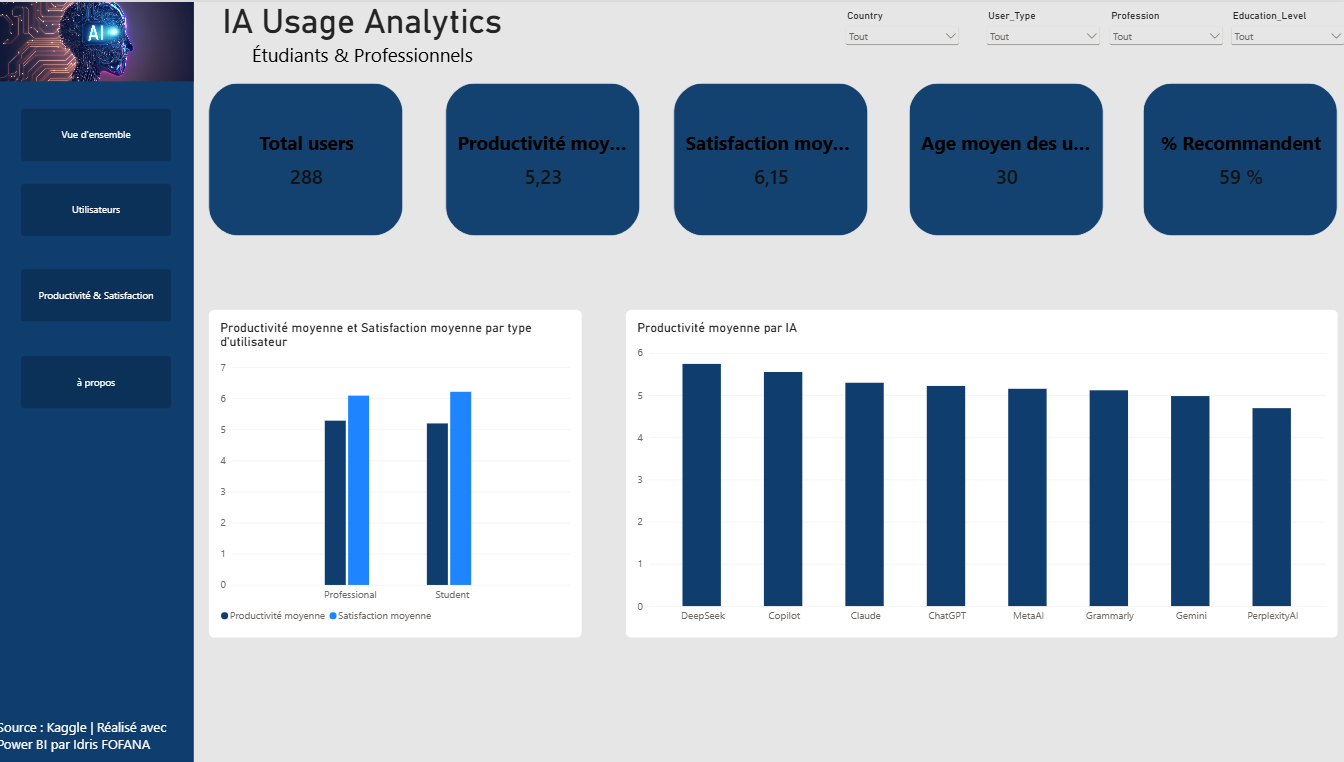

This screenshot's page, from the dashboard's own definition file:
{"tool":"powerbi","page":{"name":"Productivité & Satisfaction","canvas":[1920,1080],"ordinal":2},"visuals":[{"type":"shape","box":[0,0,279.1,1080],"z":0},{"type":"actionButton","title":"Utilisateurs","box":[34.1,257.8,213,74.6],"z":1000},{"type":"actionButton","title":"Utilisateurs","box":[34.1,151.2,213,74.6],"z":2000},{"type":"actionButton","title":"Utilisateurs","box":[34.1,379.2,213,74.6],"z":3000},{"type":"actionButton","title":"Utilisateurs","box":[34.1,502.7,213,74.6],"z":4000},{"type":"textbox","title":"IA Usage Analytics","box":[279.1,0,479.3,151.2],"z":5000},{"type":"slicer","fields":{"Values":["AI_Usage.Country"]},"box":[1199.3,10.7,172.5,104.4],"z":6000},{"type":"slicer","fields":{"Values":["AI_Usage.User_Type"]},"box":[1399.5,10.7,172.5,104.4],"z":7000},{"type":"slicer","fields":{"Values":["AI_Usage.Education_Level1"]},"box":[1746.8,10.7,172.5,104.4],"z":8000},{"type":"slicer","fields":{"Values":["AI_Usage.Profession"]},"box":[1574.2,10.7,172.5,104.4],"z":9000},{"type":"clusteredColumnChart","title":"Productivité moyenne et Satisfaction moyenne par type d''utilisateur","fields":{"Category":["AI_Usage.User_Type"],"Y":["AI_Usage.Productivité moyenne","AI_Usage.Satisfaction moyenne"]},"box":[300.4,436.7,530.4,466.5],"z":10000},{"type":"columnChart","title":"Productivité moyenne par IA","fields":{"Category":["AI_Usage.AI_Tool"],"Y":["AI_Usage.Productivité moyenne"]},"box":[892.5,436.7,1011.8,466.5],"z":11000},{"type":"cardVisual","title":"Utilisateurs","fields":{"Data":["AI_Usage.Total users"]},"box":[300.4,115,276.9,217.3],"z":12000},{"type":"cardVisual","title":"Utilisateurs","fields":{"Data":["AI_Usage.Productivité moyenne"]},"box":[636.9,115,276.9,217.3],"z":13000},{"type":"cardVisual","title":"Utilisateurs","fields":{"Data":["AI_Usage.Satisfaction moyenne"]},"box":[960.7,115,276.9,217.3],"z":14000},{"type":"cardVisual","title":"Utilisateurs","fields":{"Data":["AI_Usage.Age moyen des utilisatuers"]},"box":[1295.2,115,276.9,217.3],"z":15000},{"type":"cardVisual","title":"Utilisateurs","fields":{"Data":["AI_Usage.% Recommandent"]},"box":[1627.5,115,276.9,217.3],"z":16000},{"type":"image","box":[0,0,279.1,112.9],"z":17000},{"type":"textbox","box":[0,1016.1,279.1,63.9],"z":17001}]}

Visuals, with their boxes on the page's 1920x1080 design canvas (x1, y1, x2, y2). These are canvas units, not pixel positions in the 1344x762 screenshot, which may show the page scaled, cropped or inside an application window:
shape: x1=0, y1=0, x2=279, y2=1080
"Utilisateurs" actionButton: x1=34, y1=258, x2=247, y2=332
"Utilisateurs" actionButton: x1=34, y1=151, x2=247, y2=226
"Utilisateurs" actionButton: x1=34, y1=379, x2=247, y2=454
"Utilisateurs" actionButton: x1=34, y1=503, x2=247, y2=577
"IA Usage Analytics" textbox: x1=279, y1=0, x2=758, y2=151
slicer - AI_Usage.Country: x1=1199, y1=11, x2=1372, y2=115
slicer - AI_Usage.User_Type: x1=1400, y1=11, x2=1572, y2=115
slicer - AI_Usage.Education_Level1: x1=1747, y1=11, x2=1919, y2=115
slicer - AI_Usage.Profession: x1=1574, y1=11, x2=1747, y2=115
"Productivité moyenne et Satisfaction moyenne par type d''utilisateur" clusteredColumnChart: x1=300, y1=437, x2=831, y2=903
"Productivité moyenne par IA" columnChart: x1=892, y1=437, x2=1904, y2=903
"Utilisateurs" cardVisual: x1=300, y1=115, x2=577, y2=332
"Utilisateurs" cardVisual: x1=637, y1=115, x2=914, y2=332
"Utilisateurs" cardVisual: x1=961, y1=115, x2=1238, y2=332
"Utilisateurs" cardVisual: x1=1295, y1=115, x2=1572, y2=332
"Utilisateurs" cardVisual: x1=1628, y1=115, x2=1904, y2=332
image: x1=0, y1=0, x2=279, y2=113
textbox: x1=0, y1=1016, x2=279, y2=1080
